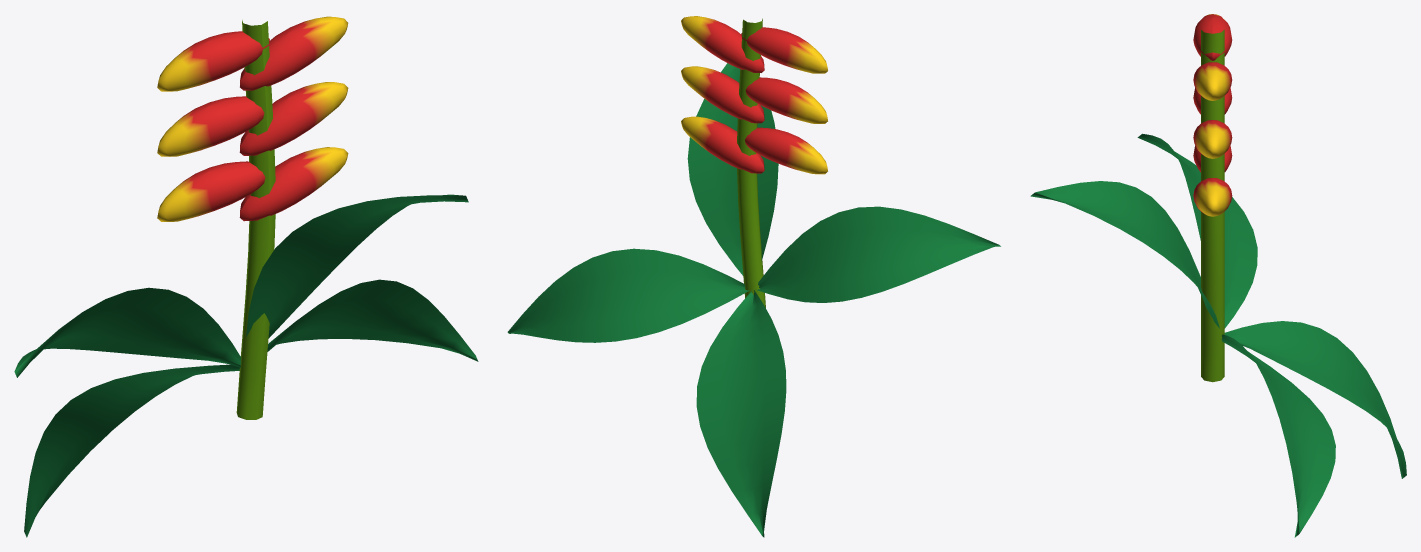
The model's file is heliconia.glb.
3 views of the same model, side by side, from view 1: azimuth 30°, elevation 25°; view 2: azimuth 150°, elevation 25°; view 3: azimuth 270°, elevation 25° (orthographic). The views are drawn at different scales.
Visible parts, largest first — view 1: Leaf_3, Leaf_0, Leaf_2, Leaf_1, Stalk, Claw_1, Claw_3, Claw_5, Claw_2, Claw_0, Claw_4; view 2: Leaf_1, Leaf_2, Leaf_3, Leaf_0, Stalk, Claw_1, Claw_3, Claw_5, Claw_2, Claw_0, Claw_4; view 3: Leaf_2, Leaf_1, Leaf_0, Stalk, Leaf_3, Claw_4, Claw_0, Claw_2, Claw_5.
Boxes of the visible parts, x1,y1,x2,y2 form: Leaf_3: [14, 287, 241, 377]; Leaf_0: [246, 194, 468, 338]; Leaf_2: [24, 364, 239, 537]; Leaf_1: [267, 279, 478, 361]; Stalk: [236, 20, 275, 419]; Claw_1: [157, 161, 265, 221]; Claw_3: [157, 96, 264, 156]; Claw_5: [157, 31, 269, 91]; Claw_2: [239, 82, 348, 155]; Claw_0: [239, 147, 348, 221]; Claw_4: [240, 16, 348, 90]; Leaf_1: [507, 248, 749, 342]; Leaf_2: [696, 290, 786, 537]; Leaf_3: [756, 206, 1000, 302]; Leaf_0: [687, 63, 778, 275]; Stalk: [737, 18, 765, 307]; Claw_1: [745, 127, 827, 174]; Claw_3: [745, 77, 827, 123]; Claw_5: [741, 27, 827, 73]; Claw_2: [681, 66, 764, 123]; Claw_0: [681, 116, 764, 173]; Claw_4: [681, 16, 764, 72]; Leaf_2: [1224, 321, 1406, 478]; Leaf_1: [1221, 334, 1335, 537]; Leaf_0: [1030, 181, 1219, 328]; Stalk: [1201, 29, 1224, 382]; Leaf_3: [1137, 133, 1257, 328]; Claw_4: [1193, 62, 1232, 100]; Claw_0: [1193, 178, 1232, 216]; Claw_2: [1193, 120, 1232, 158]; Claw_5: [1193, 14, 1232, 60].
Bounding box in the file's own units: 2.12 × 2.09 × 1.42.
